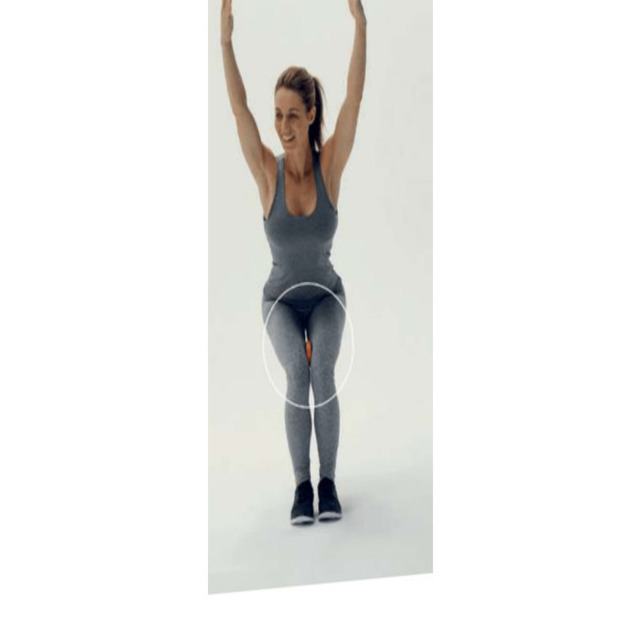Squat_Pose: (218, 2, 368, 518)
